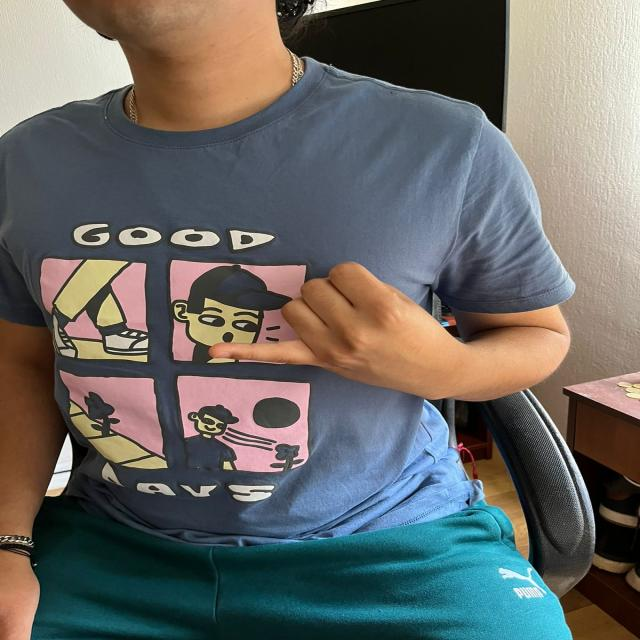J: (198, 250, 446, 397)
